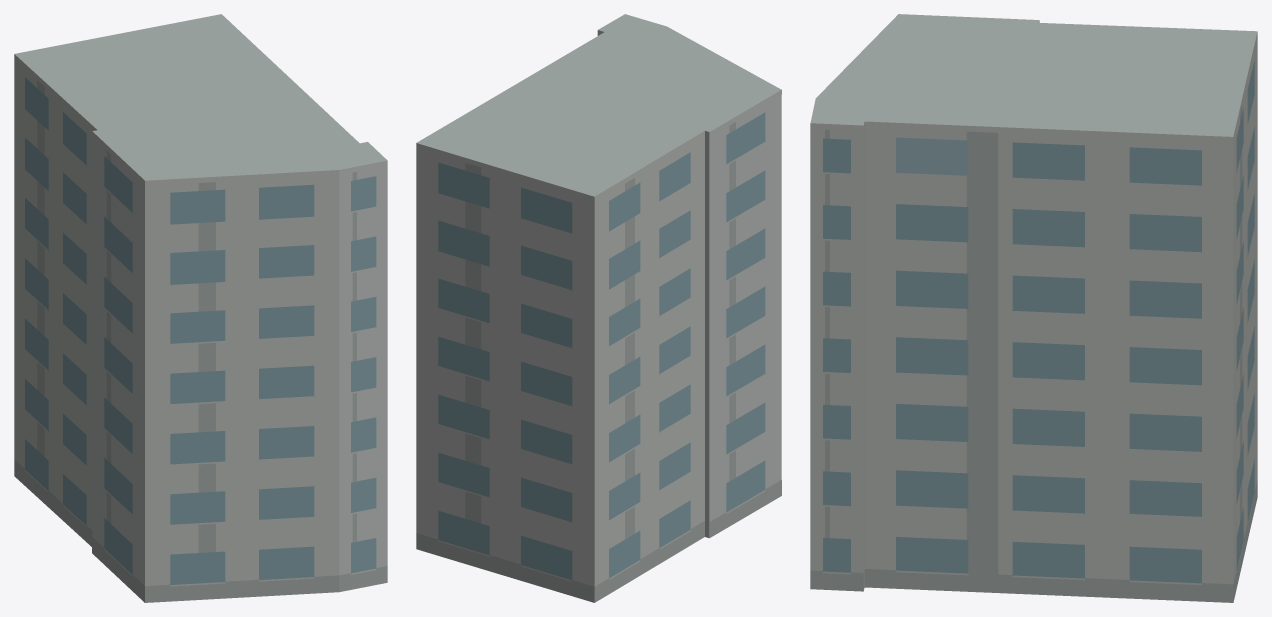
File: survey-upis-32797794.glb
3 views of the same model, side by side, from view 1: azimuth 30°, elevation 25°; view 2: azimuth 150°, elevation 25°; view 3: azimuth 270°, elevation 25° (orthographic). The views are drawn at different scales.
Parts seen in each view (by area): view 1: survey-upis-32797794.tmp; view 2: survey-upis-32797794.tmp; view 3: survey-upis-32797794.tmp.
Part boxes in pixels (x1,y1,x2,y2): survey-upis-32797794.tmp: (14, 14, 387, 602); survey-upis-32797794.tmp: (416, 14, 781, 602); survey-upis-32797794.tmp: (810, 14, 1257, 602).
Bounding box in the file's own units: 11.01 × 19.45 × 16.93.
